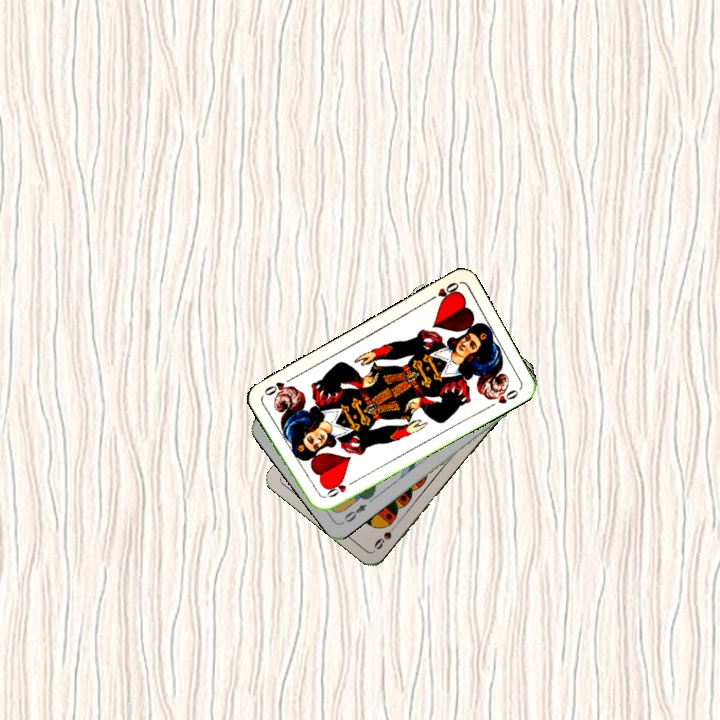EO: (338, 500, 369, 527)
HO: (424, 278, 462, 305), (318, 476, 356, 501)
S9: (370, 518, 401, 552)
